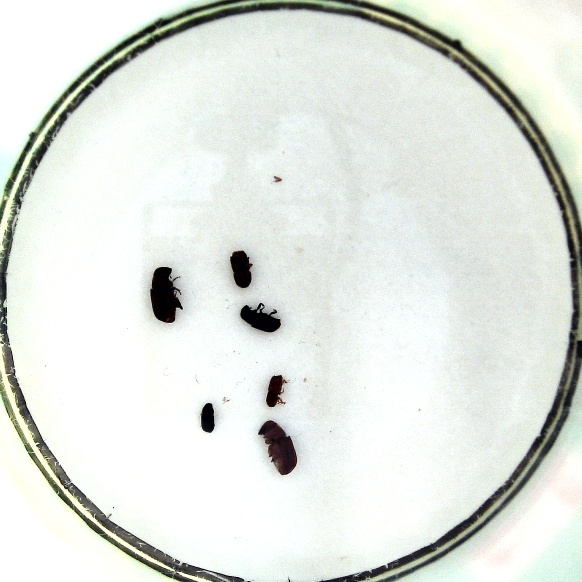acuminatus: (265, 374, 287, 408)
armandi: (238, 302, 282, 334)
coleoptera: (198, 401, 217, 435)
leconte: (256, 418, 297, 476), (150, 266, 183, 324)
linnaeus: (229, 248, 253, 289)
